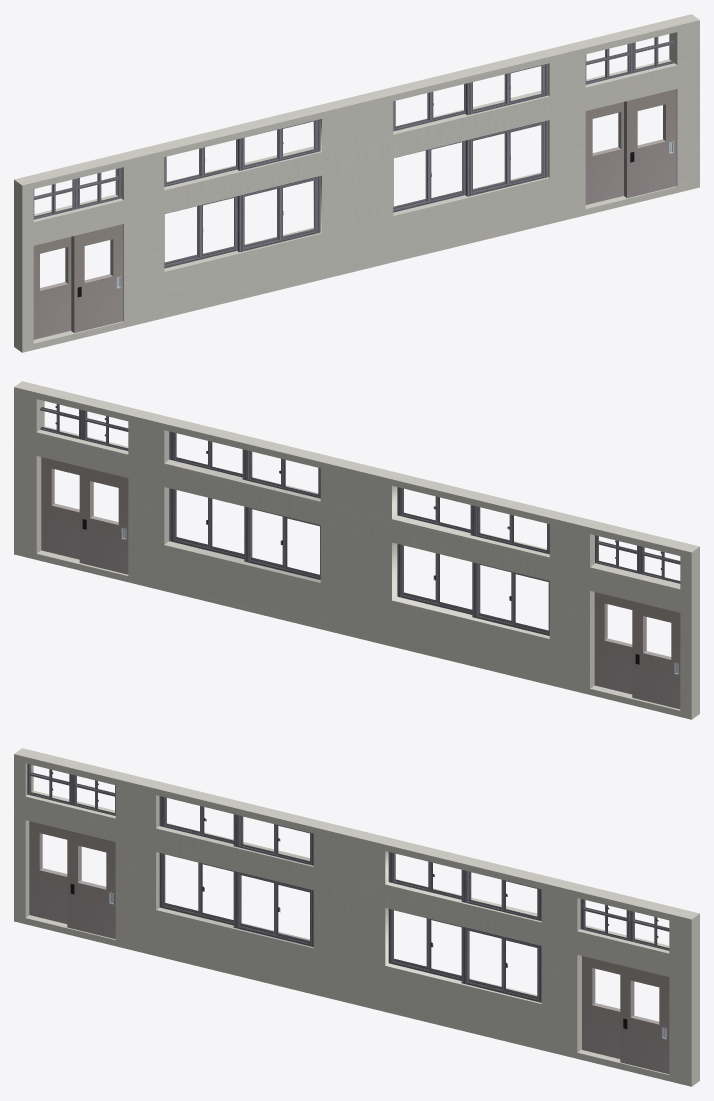
Rendered from Asset_15_ClassroomWall_Door.fbx.
3 views of the same model, one above another, from view 1: azimuth 30°, elevation 25°; view 2: azimuth 150°, elevation 25°; view 3: azimuth 330°, elevation 25° (orthographic).
Parts seen in each view (by area): view 1: SK_15_ClassroomWall_Door2, SK_09_Door (×2), School_Doa:SK_09_Door, SK_08_Window34 (×2), SK_09_Door1, SK_08_Window (×2), SK_08_Window35 (×2), SK_08_Window36 (×2), SK_08_Window29, SK_08_Window22, SK_08_Window23, SK_08_Window30; view 2: SK_15_ClassroomWall_Door2, SK_09_Door (×2), SK_09_Door1, School_Doa:SK_09_Door, SK_08_Window (×2), SK_08_Window34 (×2), SK_08_Window36 (×2), SK_08_Window35 (×2), SK_08_Window29, SK_08_Window23, SK_08_Window22; view 3: SK_15_ClassroomWall_Door2, SK_09_Door (×2), School_Doa:SK_09_Door, SK_08_Window34 (×2), SK_09_Door1, SK_08_Window (×2), SK_08_Window35 (×2), SK_08_Window36 (×2), SK_08_Window29, SK_08_Window22, SK_08_Window23, SK_08_Window30.
Boxes of the visible parts, x1,y1,x2,y2 form: SK_15_ClassroomWall_Door2: (14,14,699,352); SK_09_Door (×2): (71,102,623,332); School_Doa:SK_09_Door: (624,89,676,198); SK_08_Window34 (×2): (237,120,548,252); SK_09_Door1: (33,237,71,339); SK_08_Window (×2): (164,140,465,268); SK_08_Window35 (×2): (237,63,548,170); SK_08_Window36 (×2): (164,84,465,186); SK_08_Window29: (585,43,632,84); SK_08_Window22: (33,178,77,219); SK_08_Window23: (77,167,121,208); SK_08_Window30: (632,37,674,73); SK_15_ClassroomWall_Door2: (14,381,699,719); SK_09_Door (×2): (79,466,646,694); SK_09_Door1: (632,601,680,709); School_Doa:SK_09_Door: (41,457,93,559); SK_08_Window (×2): (244,506,549,635); SK_08_Window34 (×2): (169,488,480,614); SK_08_Window36 (×2): (242,449,549,554); SK_08_Window35 (×2): (169,431,480,532); SK_08_Window29: (82,410,128,450); SK_08_Window23: (595,535,639,573); SK_08_Window22: (639,546,680,583); SK_15_ClassroomWall_Door2: (14,748,699,1086); SK_09_Door (×2): (67,830,634,1058); School_Doa:SK_09_Door: (620,965,669,1074); SK_08_Window34 (×2): (233,871,541,1002); SK_09_Door1: (29,821,81,923); SK_08_Window (×2): (159,853,469,980); SK_08_Window35 (×2): (233,814,541,921); SK_08_Window36 (×2): (159,796,471,899); SK_08_Window29: (580,899,629,940); SK_08_Window22: (27,764,72,805); SK_08_Window23: (72,775,115,815); SK_08_Window30: (630,911,669,950).
Bounding box in the file's own units: 175 × 41.24 × 3.66.
